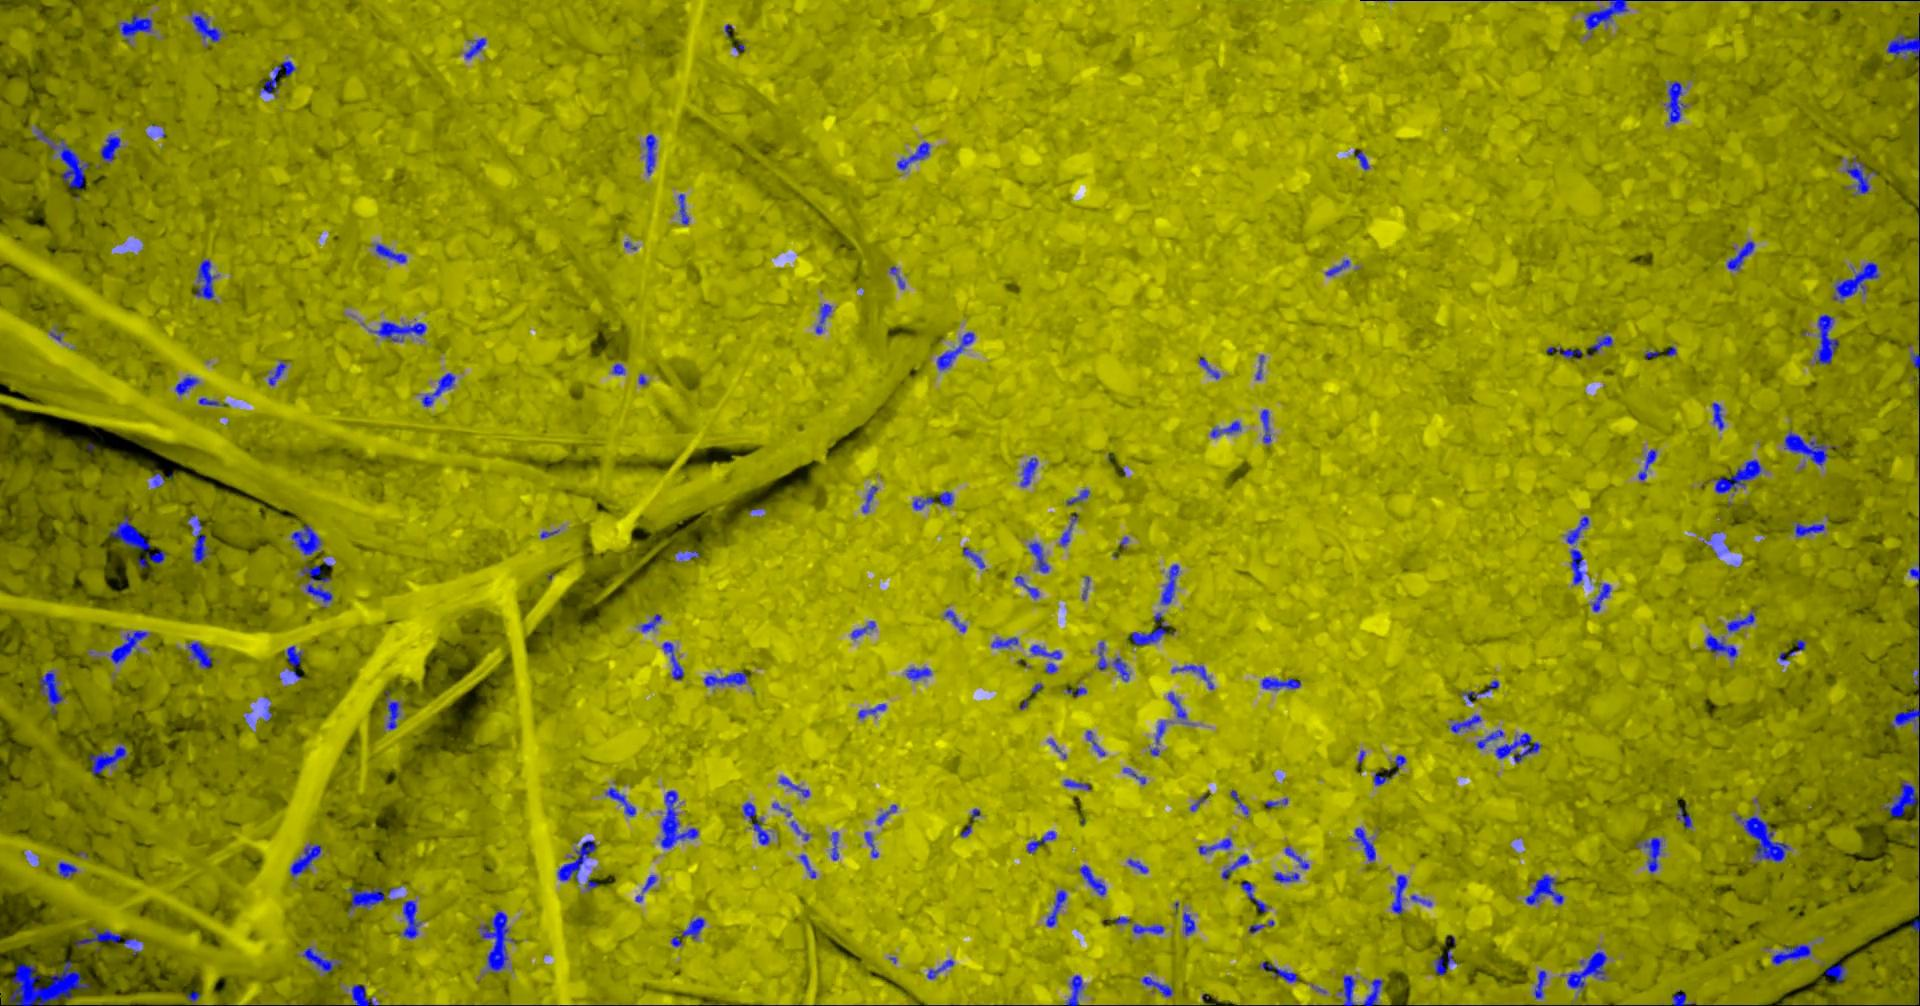ant: (36, 126, 90, 189), (110, 514, 168, 567), (1737, 815, 1792, 861), (479, 909, 516, 972), (662, 790, 700, 848), (1834, 262, 1881, 301), (1785, 431, 1837, 465), (1564, 950, 1608, 989), (76, 929, 141, 954), (1716, 459, 1763, 493), (559, 840, 597, 880), (938, 332, 977, 370), (1881, 780, 1920, 817), (1496, 732, 1542, 762), (1888, 28, 1920, 71), (302, 564, 334, 607), (371, 318, 428, 340), (1586, 0, 1629, 29), (1816, 314, 1841, 363), (112, 630, 150, 663), (260, 60, 297, 93), (91, 742, 127, 775), (423, 372, 456, 406), (1528, 874, 1564, 904), (744, 801, 771, 843), (350, 887, 399, 909), (291, 843, 323, 876), (41, 669, 65, 713), (117, 11, 152, 41), (1173, 664, 1215, 688), (1665, 80, 1688, 123), (1129, 621, 1170, 645), (189, 514, 210, 561), (1637, 837, 1663, 873), (303, 948, 342, 972), (1079, 864, 1107, 895), (898, 142, 931, 169), (293, 525, 323, 554), (1728, 240, 1756, 271), (607, 788, 637, 815), (196, 259, 217, 298), (1848, 156, 1870, 193), (1773, 944, 1812, 964), (1705, 634, 1738, 658), (1242, 882, 1269, 911), (193, 15, 223, 41), (664, 641, 684, 680), (1048, 889, 1068, 926), (1162, 564, 1180, 605), (1263, 962, 1299, 982), (914, 492, 954, 509), (1223, 854, 1250, 879), (1356, 827, 1377, 860), (1393, 874, 1410, 915), (404, 901, 422, 937), (780, 776, 811, 796), (1143, 976, 1175, 996), (189, 641, 213, 668), (1728, 608, 1756, 631), (1029, 829, 1057, 852), (705, 672, 749, 686), (1030, 541, 1050, 572), (1451, 714, 1483, 733), (1568, 516, 1590, 544), (102, 133, 122, 163), (1891, 706, 1920, 727), (1062, 512, 1079, 545), (377, 243, 408, 262), (1639, 448, 1658, 479), (1016, 575, 1041, 598), (1065, 974, 1084, 1005), (1780, 639, 1807, 661), (1150, 720, 1167, 754), (1477, 729, 1506, 748), (1592, 583, 1611, 611), (946, 608, 968, 633), (1286, 847, 1310, 869), (1436, 949, 1457, 974), (353, 984, 378, 1005), (1571, 547, 1585, 584), (1170, 692, 1189, 719), (928, 959, 955, 978), (1365, 978, 1384, 1005), (1211, 420, 1242, 437), (288, 645, 303, 678), (1200, 838, 1233, 854), (1087, 730, 1107, 754), (817, 304, 833, 333), (1022, 457, 1039, 486), (1232, 789, 1250, 815), (466, 37, 488, 58), (1200, 357, 1222, 379), (964, 546, 985, 568), (683, 917, 706, 937), (177, 376, 201, 395), (1548, 345, 1583, 358), (269, 359, 287, 385), (1262, 677, 1302, 688), (858, 702, 888, 718), (1031, 644, 1063, 658), (1590, 335, 1614, 353), (853, 620, 877, 638), (1114, 657, 1131, 681), (1796, 522, 1826, 536), (877, 804, 898, 824), (1826, 963, 1848, 982), (1343, 976, 1357, 1005), (863, 485, 879, 512), (1327, 259, 1351, 276), (389, 701, 403, 729), (866, 831, 880, 857), (1250, 920, 1276, 934), (1677, 804, 1693, 828), (801, 854, 817, 878), (1672, 989, 1697, 1005), (648, 133, 657, 174), (643, 614, 663, 631), (1535, 970, 1548, 998), (1262, 409, 1272, 443), (1068, 489, 1091, 504), (1124, 767, 1147, 782), (907, 667, 932, 680), (891, 265, 905, 288), (1713, 401, 1724, 429), (1355, 150, 1371, 169), (679, 193, 690, 224), (1129, 857, 1149, 873), (1134, 923, 1164, 934), (1183, 911, 1196, 935), (1393, 754, 1407, 776), (830, 831, 841, 860), (1462, 691, 1487, 702), (58, 861, 77, 876), (1098, 641, 1109, 669), (1912, 920, 1920, 956), (1065, 779, 1092, 789), (993, 636, 1018, 647), (644, 874, 657, 892), (1067, 686, 1088, 696), (1276, 873, 1300, 882), (201, 398, 229, 405), (1911, 567, 1920, 589), (154, 473, 166, 486), (1374, 774, 1389, 785), (681, 550, 700, 559), (1912, 352, 1920, 373), (615, 363, 626, 373)
